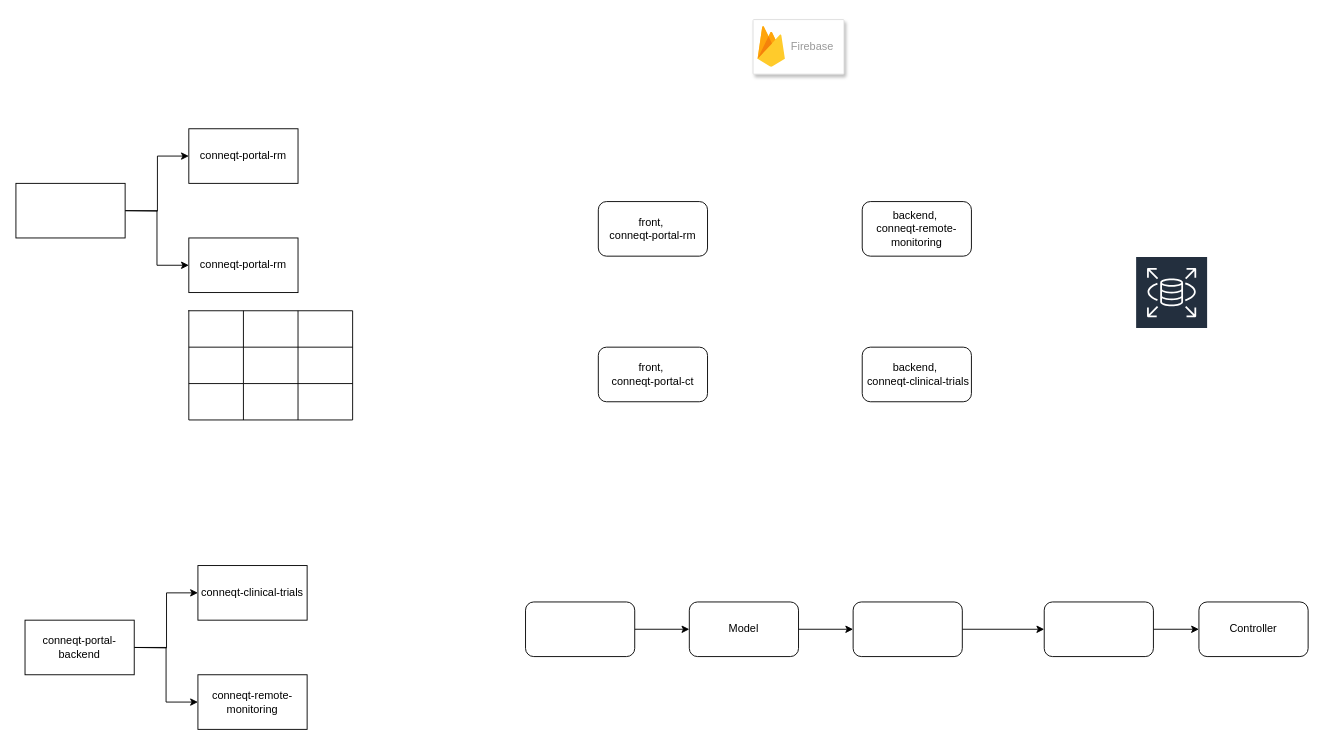
The diagram is 1324 pixels wide and 745 high, and some of its shapes have lost their labels. Here are the shapes that lost their labels. From the top down, the centre of each, then its label:
At (70,210): "conneqt-portal-front".
At (1171,301): "Amazon RDS".
At (580,629): "Entity".
At (907,629): "Repository".
At (1098,629): "Service".
